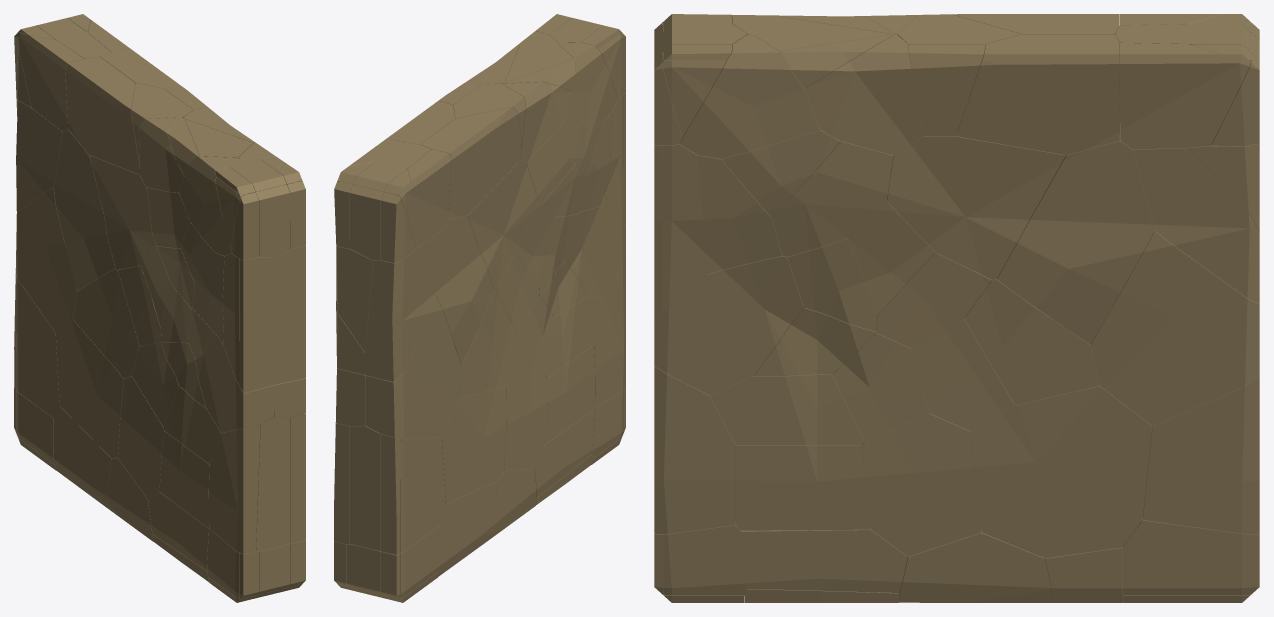
File: ShatteredDoor.fbx
3 views of the same model, side by side, from view 1: azimuth 30°, elevation 25°; view 2: azimuth 150°, elevation 25°; view 3: azimuth 270°, elevation 25° (orthographic). The views are drawn at different scales.
Visible parts, largest first — view 1: Door_Block_cell.044, Door_Block_cell.025, Door_Block_cell.081, Door_Block_cell.067, Door_Block_cell.006, Door_Block_cell.080, Door_Block_cell.003, Door_Block_cell, Door_Block_cell.071, Door_Block_cell.046, Door_Block_cell.079, Door_Block_cell.045 (+44 smaller); view 2: Door_Block_cell.067, Door_Block_cell.095, Door_Block_cell.044, Door_Block_cell.025, Door_Block_cell.081, Door_Block_cell, Door_Block_cell.046, Door_Block_cell.080, Door_Block_cell.071, Door_Block_cell.058, Door_Block_cell.014, Door_Block_cell.072 (+43 smaller); view 3: Door_Block_cell.050, Door_Block_cell.016, Door_Block_cell.070, Door_Block_cell.041, Door_Block_cell.057, Door_Block_cell.090, Door_Block_cell.054, Door_Block_cell.035, Door_Block_cell.062, Door_Block_cell.089, Door_Block_cell.065, Door_Block_cell.052 (+36 smaller).
Part boxes in pixels (x1,y1,x2,y2): Door_Block_cell.044: (65,57,139,174); Door_Block_cell.025: (55,320,124,458); Door_Block_cell.081: (53,129,115,290); Door_Block_cell.067: (15,187,77,332); Door_Block_cell.006: (209,424,260,554); Door_Block_cell.080: (189,308,274,432); Door_Block_cell.003: (239,256,274,393); Door_Block_cell: (89,155,153,269); Door_Block_cell.071: (73,268,153,378); Door_Block_cell.046: (16,276,59,418); Door_Block_cell.079: (274,246,305,384); Door_Block_cell.045: (256,417,289,551); Door_Block_cell.067: (365,297,461,438); Door_Block_cell.095: (365,230,443,381); Door_Block_cell.044: (420,107,521,218); Door_Block_cell.025: (441,386,506,503); Door_Block_cell.081: (436,215,494,364); Door_Block_cell: (468,160,538,289); Door_Block_cell.046: (400,437,445,552); Door_Block_cell.080: (566,206,625,297); Door_Block_cell.071: (458,290,517,398); Door_Block_cell.058: (504,372,547,470); Door_Block_cell.014: (350,426,382,551); Door_Block_cell.072: (397,149,451,248); Door_Block_cell.050: (970,385,1152,558); Door_Block_cell.016: (1091,230,1259,426); Door_Block_cell.070: (997,123,1154,344); Door_Block_cell.041: (887,132,1065,279); Door_Block_cell.057: (956,34,1119,155); Door_Block_cell.090: (1142,378,1259,534); Door_Block_cell.054: (654,255,803,395); Door_Block_cell.035: (862,413,981,556); Door_Block_cell.062: (1119,43,1251,149); Door_Block_cell.089: (654,366,735,534); Door_Block_cell.065: (736,445,870,530); Door_Block_cell.052: (1133,147,1259,303).
Size of the model in its own units: 57.12 by 300 by 300.
